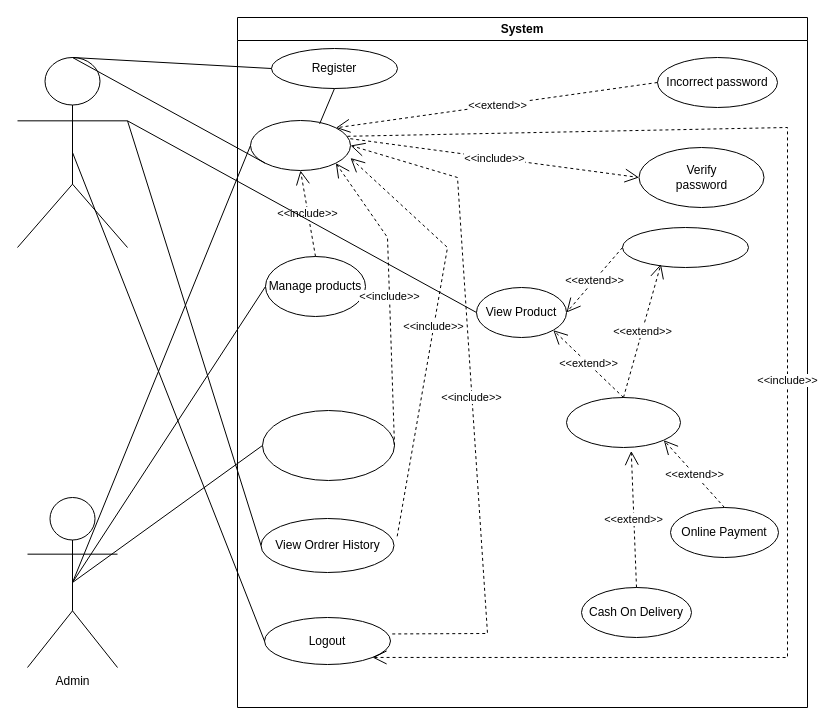
The diagram is 835 pixels wide and 725 high, and some of its shapes have lost their labels. The shapes that lost their labels are listed below. From the top down, each one's centre as x and y in pixels, then its label:
At point (72, 152): "Client".
At point (300, 145): "Login".
At point (685, 247): "Add to Cart".
At point (623, 422): "Make Purchase".
At point (328, 445): "Manage categories".
